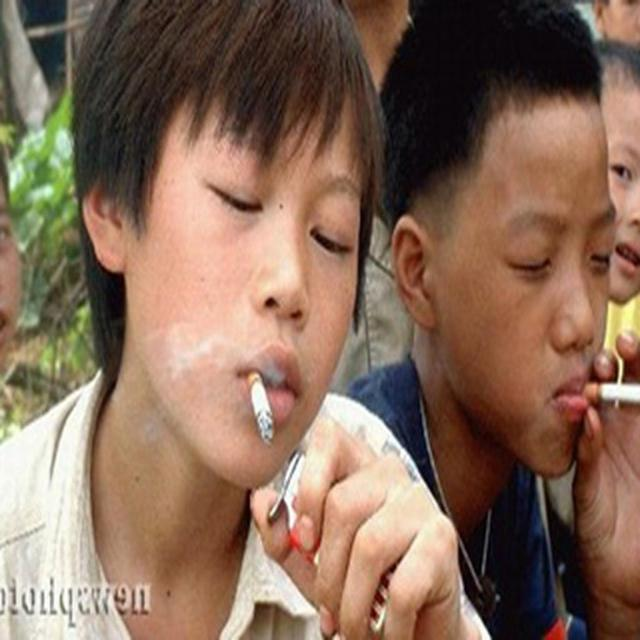smoking: (82, 5, 374, 530), (430, 0, 640, 475)
